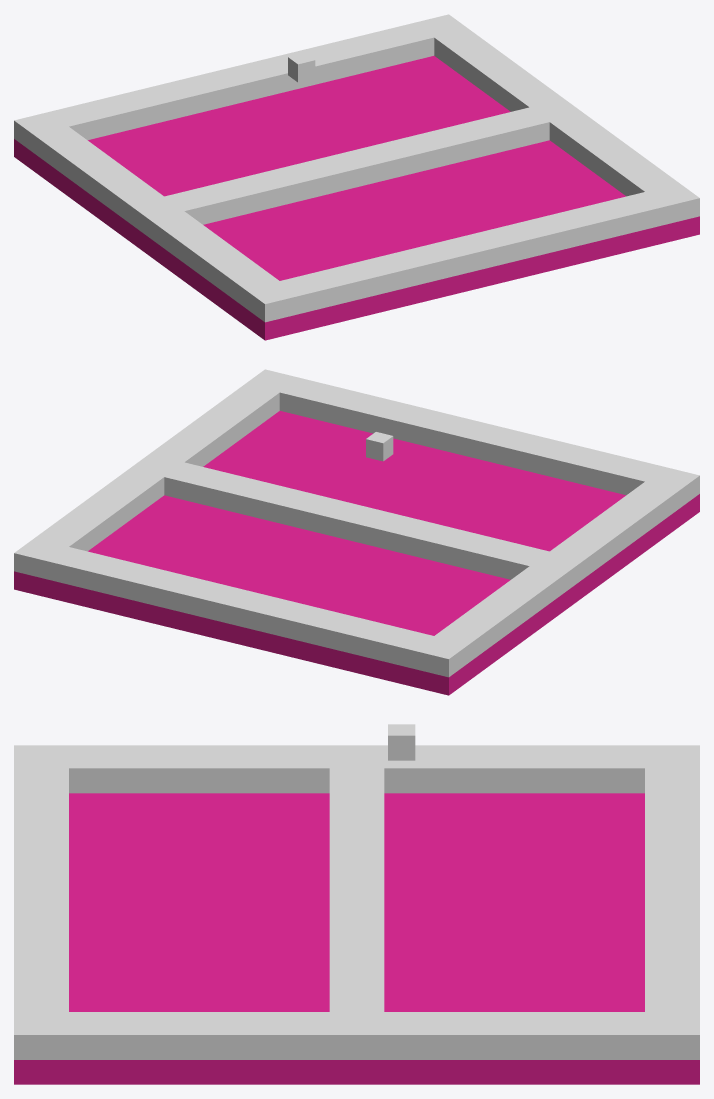
3 renders of one model, top to bottom at view 1: azimuth 30°, elevation 25°; view 2: azimuth 150°, elevation 25°; view 3: azimuth 270°, elevation 25°, orthographic. The views are drawn at different scales.
Parts seen in each view (by area): view 1: single room, Cube solid.003, Cube solid.002, Cube solid.004, Cube solid.001, Cube solid, Cube.001; view 2: single room, Cube solid.004, Cube solid.003, Cube solid.002, Cube solid.001, Cube solid, Cube.001; view 3: single room, Cube solid, Cube solid.001, Cube solid.004, Cube solid.002, Cube solid.003, Cube.001.
Boxes of the visible parts, bbox=[...] form: single room: bbox=[14, 56, 699, 340]; Cube solid.003: bbox=[245, 192, 699, 321]; Cube solid.002: bbox=[130, 99, 583, 224]; Cube solid.004: bbox=[14, 14, 467, 151]; Cube solid.001: bbox=[14, 112, 299, 322]; Cube solid: bbox=[414, 14, 699, 223]; Cube.001: bbox=[288, 53, 315, 82]; single room: bbox=[14, 411, 699, 695]; Cube solid.004: bbox=[14, 547, 468, 676]; Cube solid.003: bbox=[246, 370, 699, 507]; Cube solid.002: bbox=[130, 454, 583, 579]; Cube solid.001: bbox=[414, 467, 699, 677]; Cube solid: bbox=[14, 369, 299, 579]; Cube.001: bbox=[366, 432, 393, 461]; single room: bbox=[14, 793, 699, 1084]; Cube solid: bbox=[14, 1012, 699, 1059]; Cube solid.001: bbox=[14, 745, 699, 793]; Cube solid.004: bbox=[645, 745, 699, 1059]; Cube solid.002: bbox=[329, 745, 384, 1059]; Cube solid.003: bbox=[14, 745, 68, 1059]; Cube.001: bbox=[388, 724, 415, 760].
Bounding box in the file's own units: 25 × 7.4 × 25.
